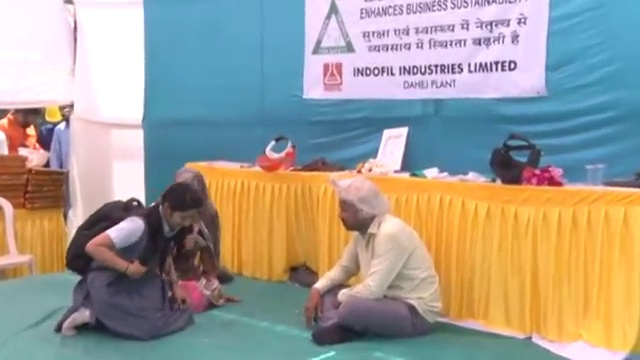helmet: (18, 146, 52, 169), (44, 107, 63, 124)
helmet_off: (333, 180, 383, 243), (153, 187, 205, 235), (171, 174, 208, 214), (6, 104, 35, 132), (60, 103, 74, 123)
helmet_on: (44, 105, 64, 130)
person: (299, 182, 445, 341), (55, 185, 204, 338), (169, 167, 233, 308), (0, 104, 47, 174), (47, 104, 76, 177), (39, 105, 63, 152)
